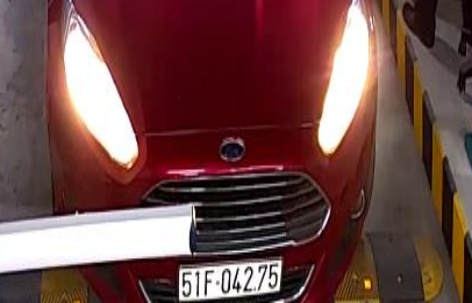plate: (175, 259, 284, 298)
